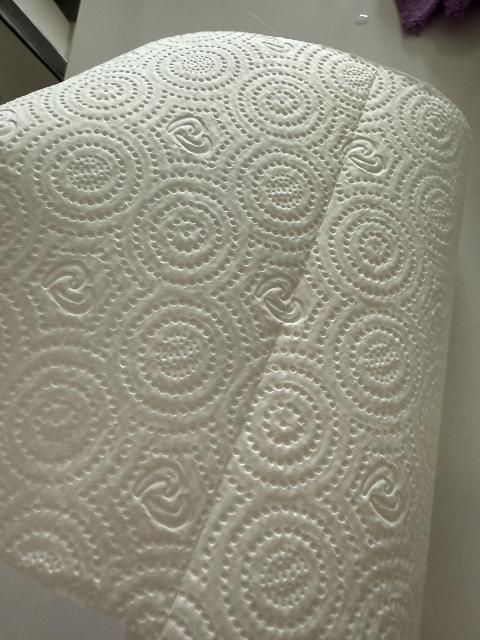Kagit: (0, 31, 475, 640)
